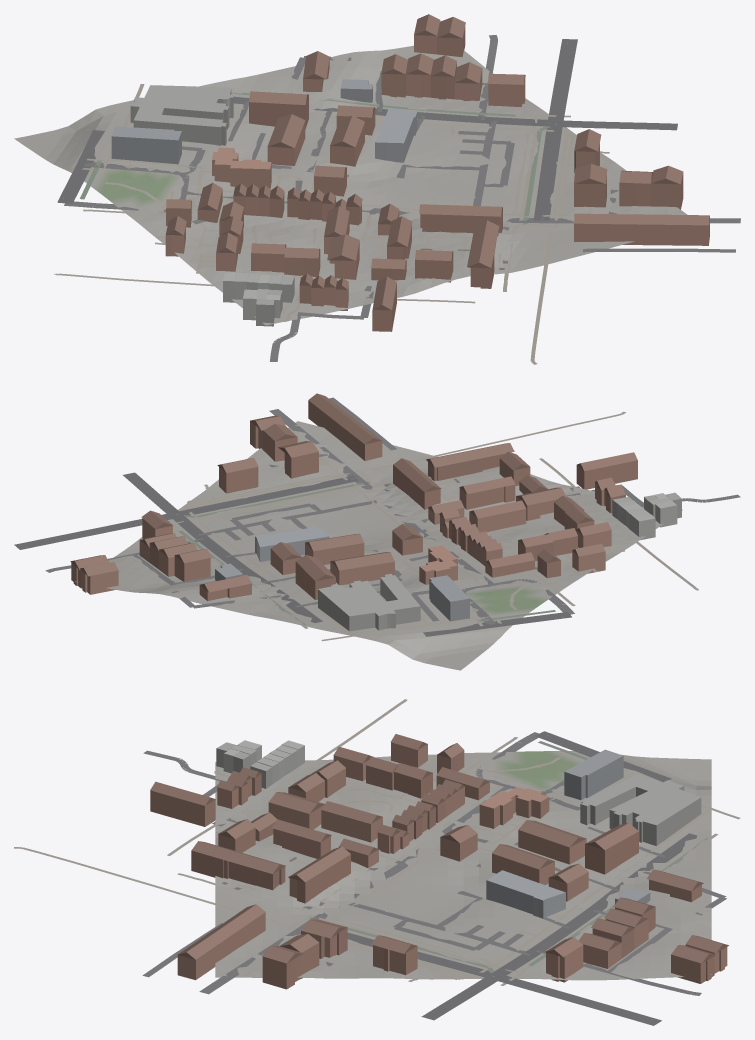
The model's file is tile_-6_5.glb.
3 views of the same model, one above another, from view 1: azimuth 30°, elevation 25°; view 2: azimuth 150°, elevation 25°; view 3: azimuth 270°, elevation 25° (orthographic). The views are drawn at different scales.
Visible parts, largest first — view 1: buildings, terrain, roads; view 2: buildings, terrain, roads; view 3: buildings, terrain, roads.
Boxes of the visible parts, x1=… form: buildings: x1=111, y1=14, x2=709, y2=331; terrain: x1=14, y1=45, x2=687, y2=325; roads: x1=54, y1=35, x2=740, y2=364; buildings: x1=70, y1=393, x2=681, y2=631; terrain: x1=75, y1=421, x2=682, y2=670; roads: x1=14, y1=397, x2=740, y2=641; buildings: x1=150, y1=734, x2=728, y2=989; terrain: x1=215, y1=751, x2=711, y2=980; roads: x1=14, y1=699, x2=740, y2=1025.
Bounding box in the file's own units: 381 × 25.61 × 375.
